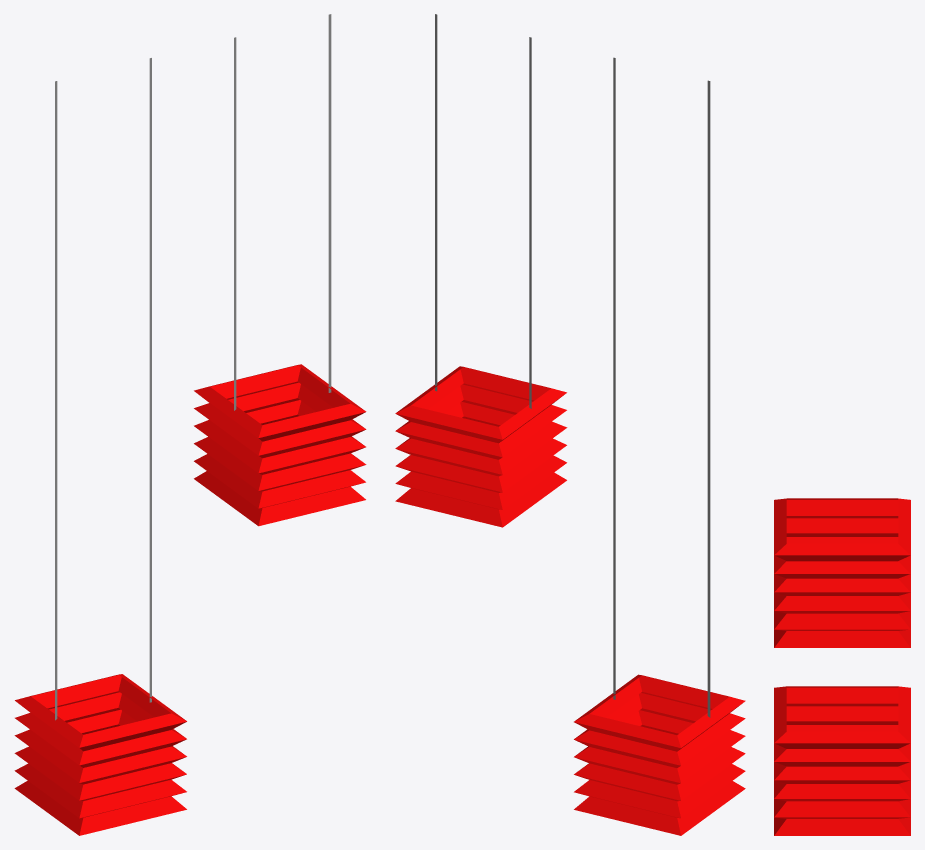
The model's file is Paperlight_04.glb.
The picture shows the model from 3 angles, left to right: view 1: azimuth 30°, elevation 25°; view 2: azimuth 150°, elevation 25°; view 3: azimuth 270°, elevation 25°; orthographic projection. The views are drawn at different scales.
Parts seen in each view (by area): view 1: paperlight_04_geo; view 2: paperlight_04_geo; view 3: paperlight_04_geo.
Boxes of the visible parts, x1=… form: paperlight_04_geo: x1=14, y1=14, x2=366, y2=835; paperlight_04_geo: x1=395, y1=14, x2=745, y2=835; paperlight_04_geo: x1=774, y1=498, x2=910, y2=835.
Size of what is drawn, in the model's own units: 1.32 by 3.22 by 0.5178.
Materials: 1 (1 with a texture image).
